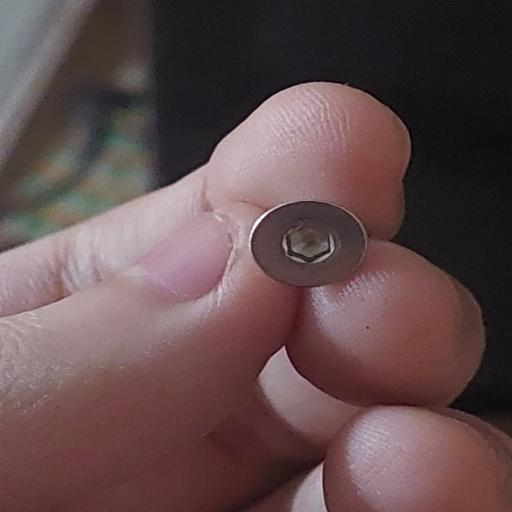Hex-Allen: (251, 197, 367, 295)
